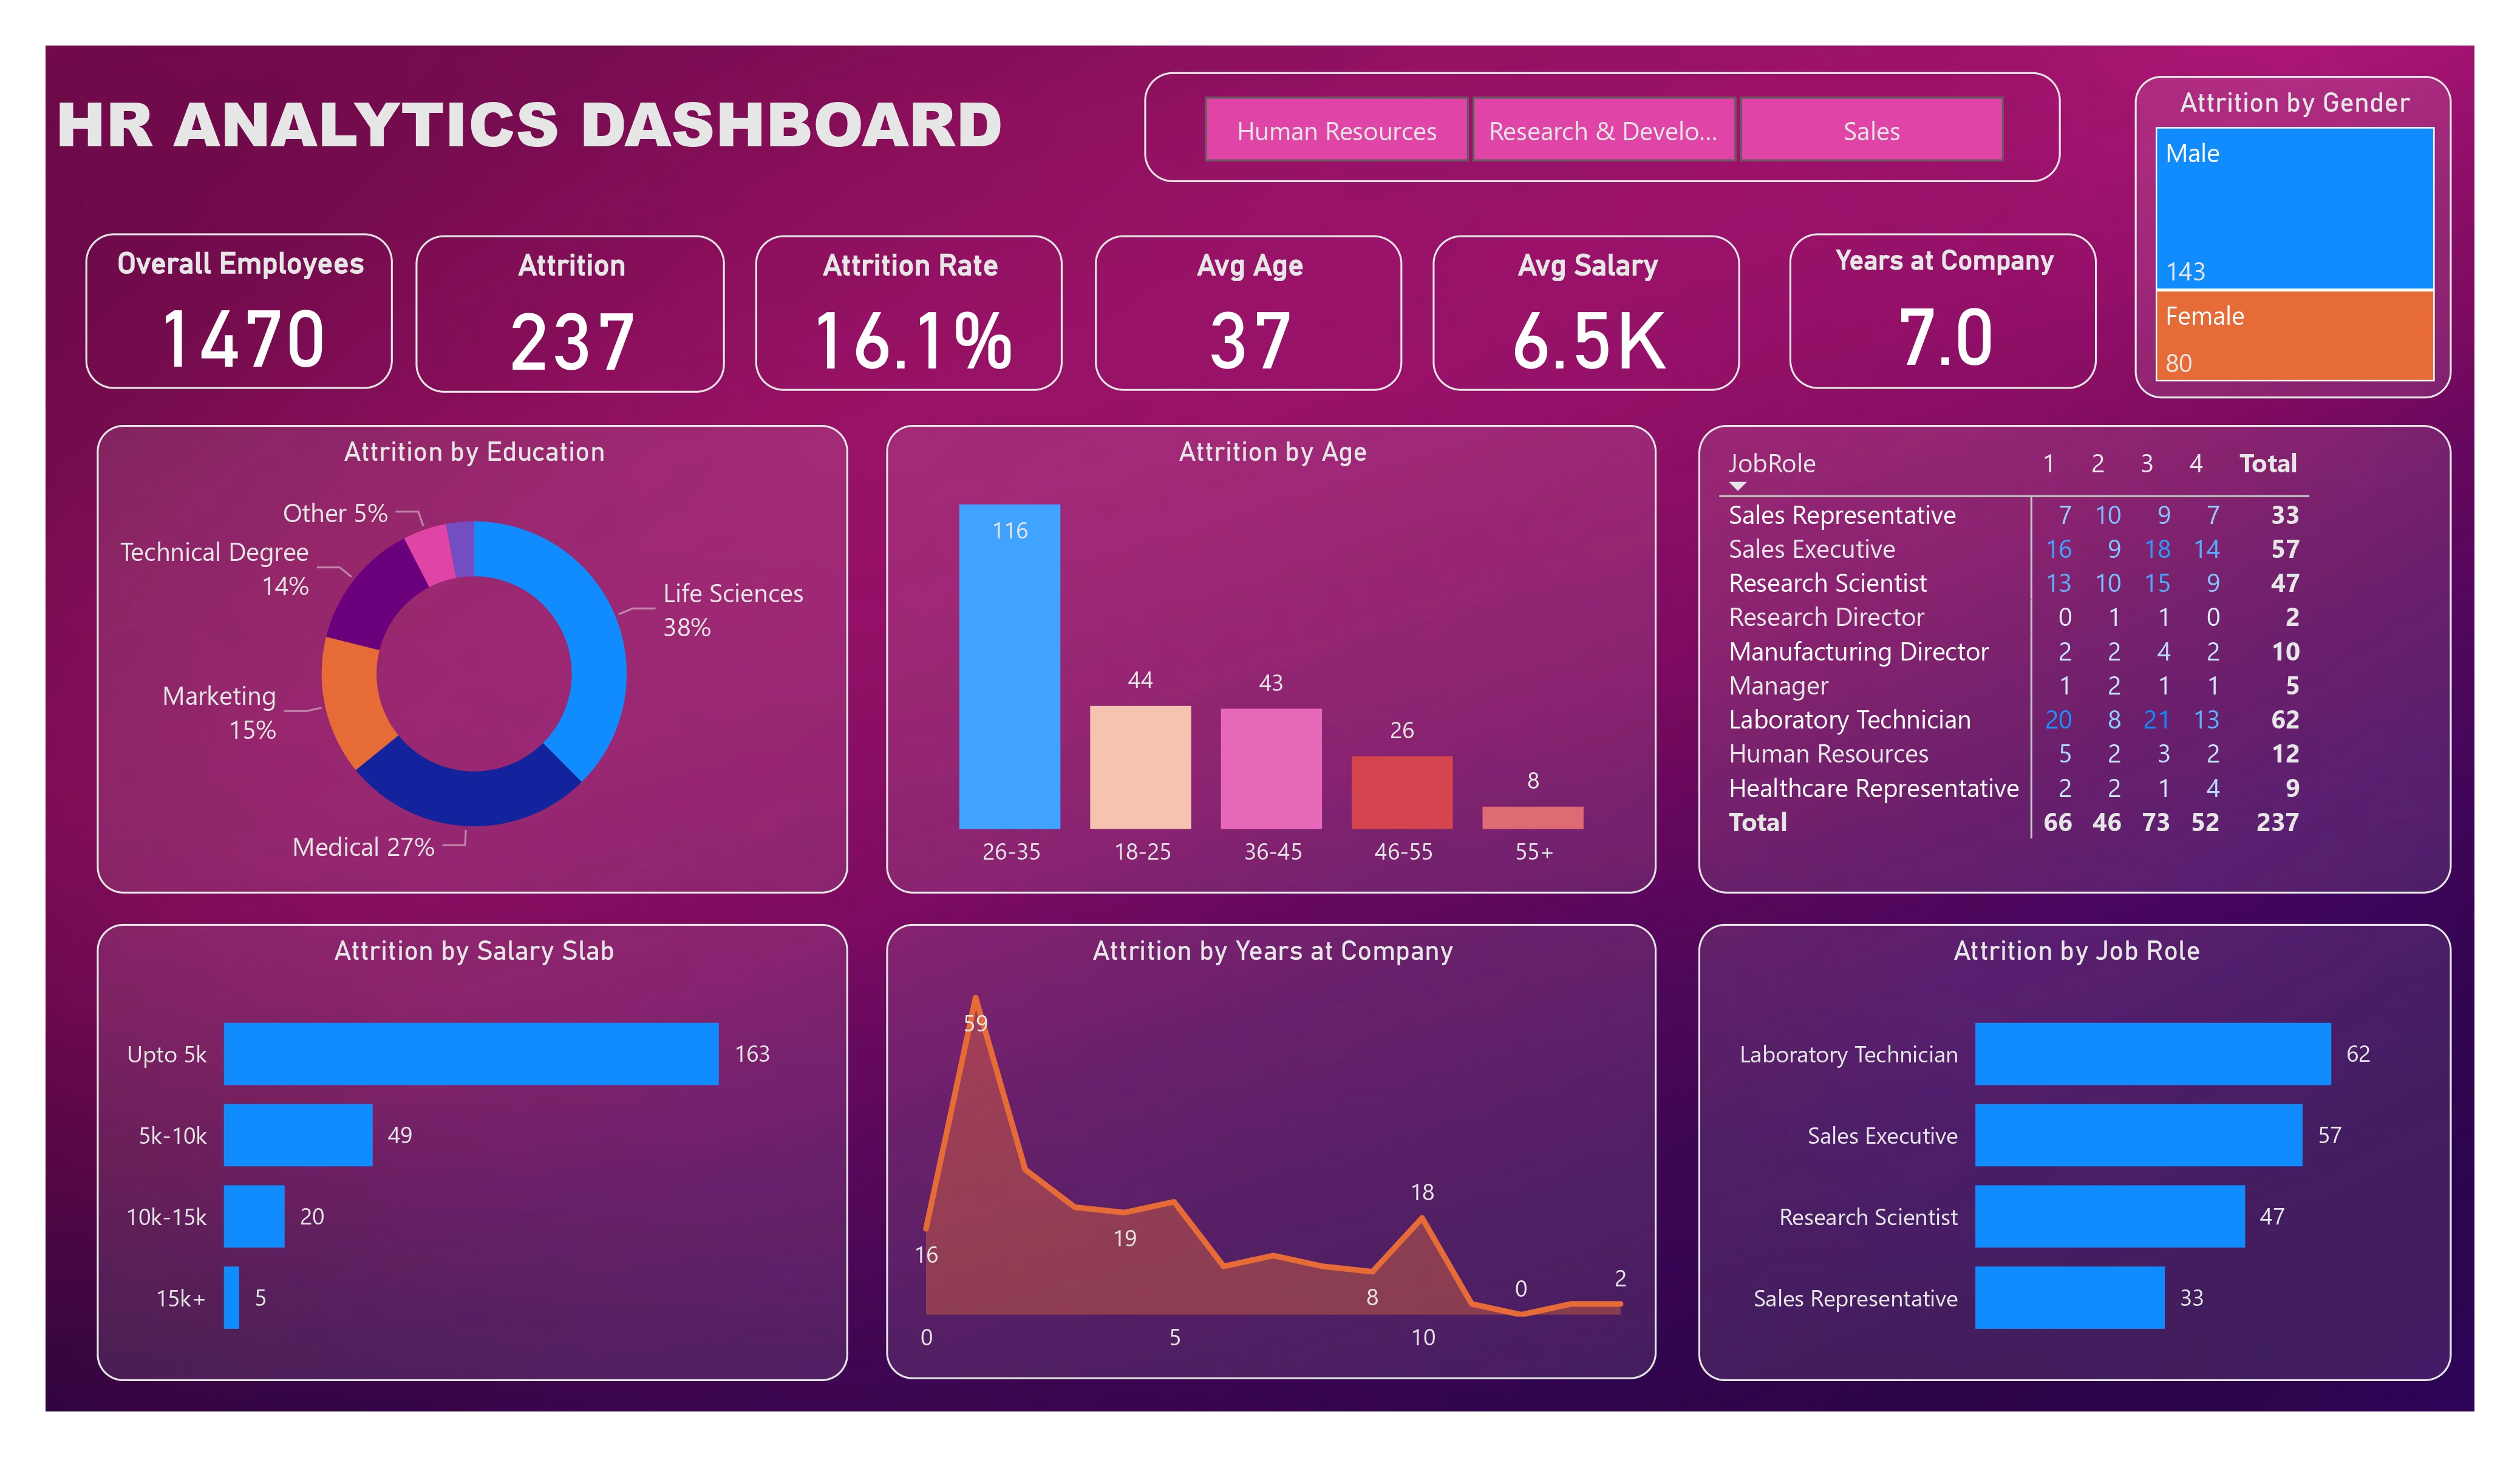

This screenshot's page, from the dashboard's own definition file:
{"tool":"powerbi","page":{"name":"Page 1","canvas":[1280,720],"ordinal":0},"visuals":[{"type":"card","title":"Overall Employees","fields":{"Values":["CountNonNull(HR_Analytics.EmpID)"]},"box":[20.7,98.5,162.1,82.6],"z":0},{"type":"card","title":"Attrition","fields":{"Values":["Sum(HR_Analytics.AttritionCount)"]},"box":[195.5,100.1,162.1,82.6],"z":1000},{"type":"card","title":"Avg Age","fields":{"Values":["Avg(HR_Analytics.Age)"]},"box":[553.1,100.1,162,82],"z":2000},{"type":"card","title":"Attrition Rate","fields":{"Values":["HR_Analytics.AttritionRate"]},"box":[373.5,100.1,162,82],"z":3000},{"type":"card","title":"Avg Salary","fields":{"Values":["Avg(HR_Analytics.MonthlyIncome)"]},"box":[731.1,100.1,162,82],"z":4000},{"type":"card","title":"Years at Company","fields":{"Values":["Avg(HR_Analytics.YearsAtCompany)"]},"box":[918.7,98.5,162.1,82.6],"z":5000},{"type":"donutChart","title":"Attrition by Education","fields":{"Category":["HR_Analytics.EducationField"],"Y":["Sum(HR_Analytics.AttritionCount)"]},"box":[27,200.3,395.8,246.4],"z":6000},{"type":"columnChart","title":"Attrition by Age","fields":{"Category":["HR_Analytics.AgeGroup"],"Y":["Sum(HR_Analytics.AttritionCount)"]},"box":[443.4,200.3,405.3,246.4],"z":7000},{"type":"pivotTable","fields":{"Rows":["HR_Analytics.JobRole"],"Columns":["HR_Analytics.JobSatisfaction"],"Values":["Sum(HR_Analytics.AttritionCount)"]},"box":[871,200.3,397.4,246.4],"z":8000},{"type":"barChart","title":"Attrition by Salary Slab","fields":{"Category":["HR_Analytics.SalarySlab"],"Y":["Sum(HR_Analytics.AttritionCount)"]},"box":[27,462.5,395.8,241.6],"z":9000},{"type":"barChart","title":"Attrition by Job Role","fields":{"Y":["Sum(HR_Analytics.AttritionCount)"],"Category":["HR_Analytics.JobRole"]},"box":[871,462.5,397.4,241.6],"z":10000},{"type":"areaChart","title":"Attrition by Years at Company","fields":{"Category":["HR_Analytics.YearsAtCompany"],"Y":["Sum(HR_Analytics.AttritionCount)"]},"box":[443.4,462.5,405.3,240],"z":11000},{"type":"treemap","title":"Attrition by Gender","fields":{"Group":["HR_Analytics.Gender"],"Values":["Sum(HR_Analytics.AttritionCount)"]},"box":[1101.5,15.9,166.9,170.1],"z":12000},{"type":"slicer","fields":{"Values":["HR_Analytics.Department"]},"box":[578.5,14.3,483.2,57.2],"z":13000},{"type":"textbox","box":[0,12.7,553.1,58.8],"z":14000}]}

Visuals, with their boxes in screenshot pixels (x1, y1, x2, y2):
"Overall Employees" card: pyautogui.locateOnScreen(40, 205, 355, 365)
"Attrition" card: pyautogui.locateOnScreen(380, 208, 694, 368)
"Avg Age" card: pyautogui.locateOnScreen(1074, 208, 1388, 367)
"Attrition Rate" card: pyautogui.locateOnScreen(725, 208, 1040, 367)
"Avg Salary" card: pyautogui.locateOnScreen(1420, 208, 1734, 367)
"Years at Company" card: pyautogui.locateOnScreen(1783, 205, 2099, 365)
"Attrition by Education" donutChart: pyautogui.locateOnScreen(52, 402, 821, 880)
"Attrition by Age" columnChart: pyautogui.locateOnScreen(861, 402, 1648, 880)
pivotTable - HR_Analytics.JobRole x HR_Analytics.JobSatisfaction: pyautogui.locateOnScreen(1691, 402, 2463, 880)
"Attrition by Salary Slab" barChart: pyautogui.locateOnScreen(52, 911, 821, 1380)
"Attrition by Job Role" barChart: pyautogui.locateOnScreen(1691, 911, 2463, 1380)
"Attrition by Years at Company" areaChart: pyautogui.locateOnScreen(861, 911, 1648, 1377)
"Attrition by Gender" treemap: pyautogui.locateOnScreen(2139, 44, 2463, 374)
slicer - HR_Analytics.Department: pyautogui.locateOnScreen(1123, 41, 2062, 152)
textbox: pyautogui.locateOnScreen(0, 38, 1074, 152)
